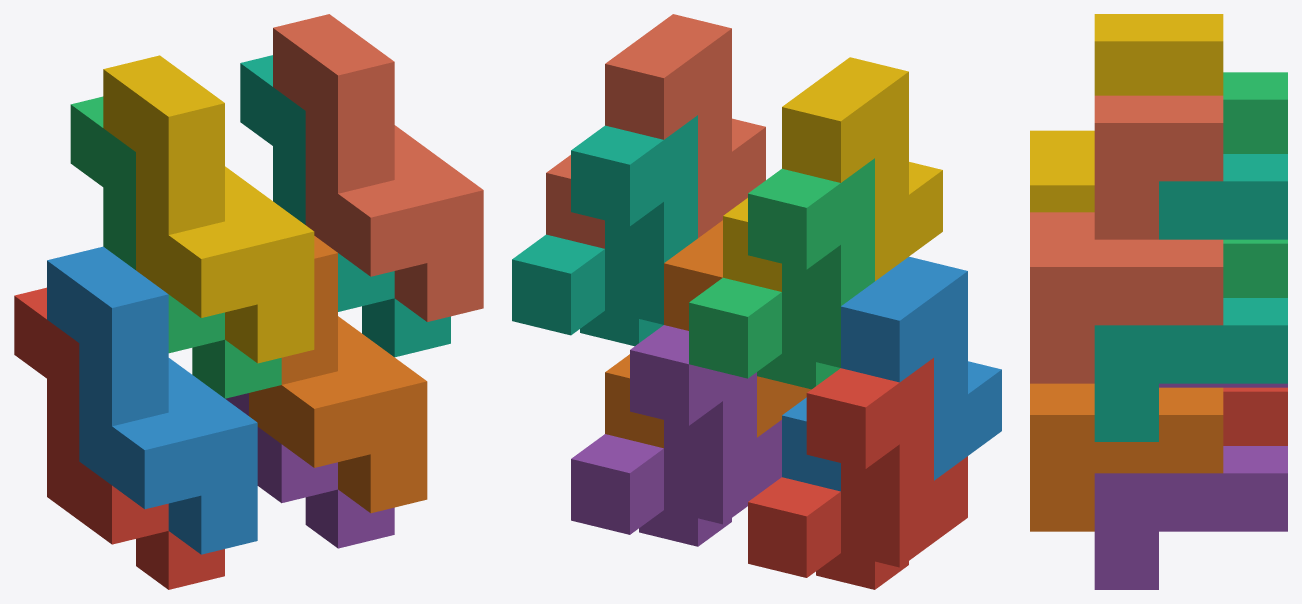
File: tiling.obj
3 views of the same model, side by side, from view 1: azimuth 30°, elevation 25°; view 2: azimuth 150°, elevation 25°; view 3: azimuth 270°, elevation 25° (orthographic). The views are drawn at different scales.
Visible parts, largest first — view 1: copy_1_domain_2, copy_1_domain_4, copy_1_domain_8, copy_1_domain_6, copy_1_domain_1, copy_1_domain_3, copy_1_domain_7, copy_1_domain_5; view 2: copy_1_domain_1, copy_1_domain_5, copy_1_domain_3, copy_1_domain_7, copy_1_domain_2, copy_1_domain_4, copy_1_domain_8, copy_1_domain_6; view 3: copy_1_domain_8, copy_1_domain_7, copy_1_domain_5, copy_1_domain_6, copy_1_domain_4, copy_1_domain_3, copy_1_domain_1.
Boxes of the visible parts, left/top/right/bottom form: copy_1_domain_2: left=47, top=246, right=257, bottom=554; copy_1_domain_4: left=103, top=55, right=314, bottom=363; copy_1_domain_8: left=273, top=14, right=483, bottom=321; copy_1_domain_6: left=249, top=236, right=427, bottom=513; copy_1_domain_1: left=14, top=287, right=224, bottom=589; copy_1_domain_3: left=70, top=96, right=281, bottom=398; copy_1_domain_7: left=240, top=55, right=450, bottom=357; copy_1_domain_5: left=225, top=393, right=394, bottom=548; copy_1_domain_1: left=748, top=358, right=967, bottom=589; copy_1_domain_5: left=571, top=325, right=781, bottom=546; copy_1_domain_3: left=689, top=158, right=874, bottom=389; copy_1_domain_7: left=512, top=115, right=697, bottom=346; copy_1_domain_2: left=782, top=256, right=1001, bottom=491; copy_1_domain_4: left=723, top=57, right=942, bottom=291; copy_1_domain_8: left=546, top=14, right=765, bottom=248; copy_1_domain_6: left=605, top=220, right=811, bottom=448; copy_1_domain_8: left=1030, top=95, right=1223, bottom=383; copy_1_domain_7: left=1094, top=154, right=1287, bottom=441; copy_1_domain_5: left=1094, top=383, right=1287, bottom=589; copy_1_domain_6: left=1030, top=383, right=1223, bottom=531; copy_1_domain_4: left=1030, top=14, right=1223, bottom=212; copy_1_domain_3: left=1223, top=72, right=1287, bottom=297; copy_1_domain_1: left=1223, top=387, right=1287, bottom=445.
Bounding box in the file's own units: 6 × 8 × 4.
